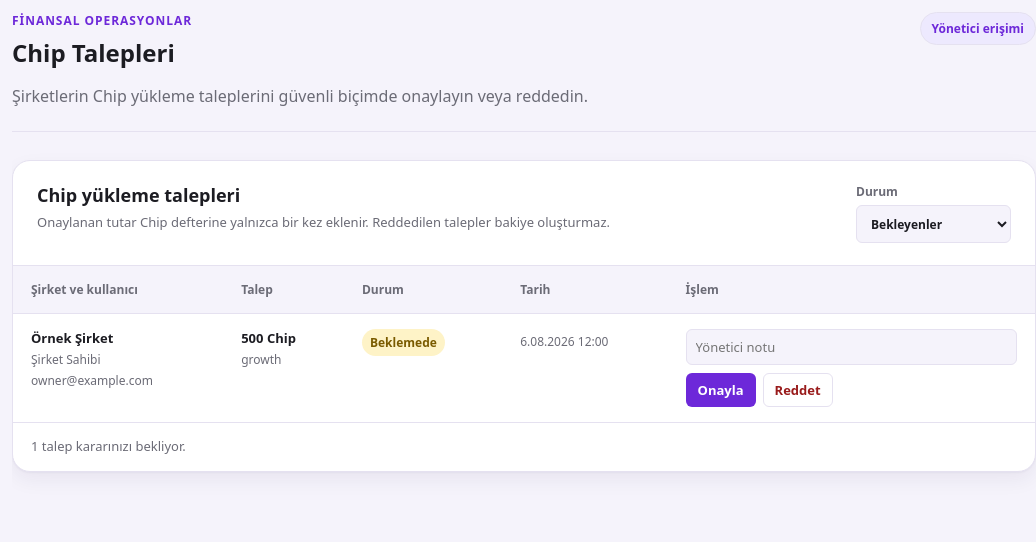
AdminDashboard › talebi onaylar ve yonetici notunu API'ye gonderir
The image size is (1036, 542).
Expected: the text "Örnek Şirket" is shown, x1=31 y1=329 x2=113 y2=347
Type "Ödeme doğrulandı" into the field named "Örnek Şirket için yönetici notu" at (851, 347), box x1=686 y1=329 x2=1017 y2=365
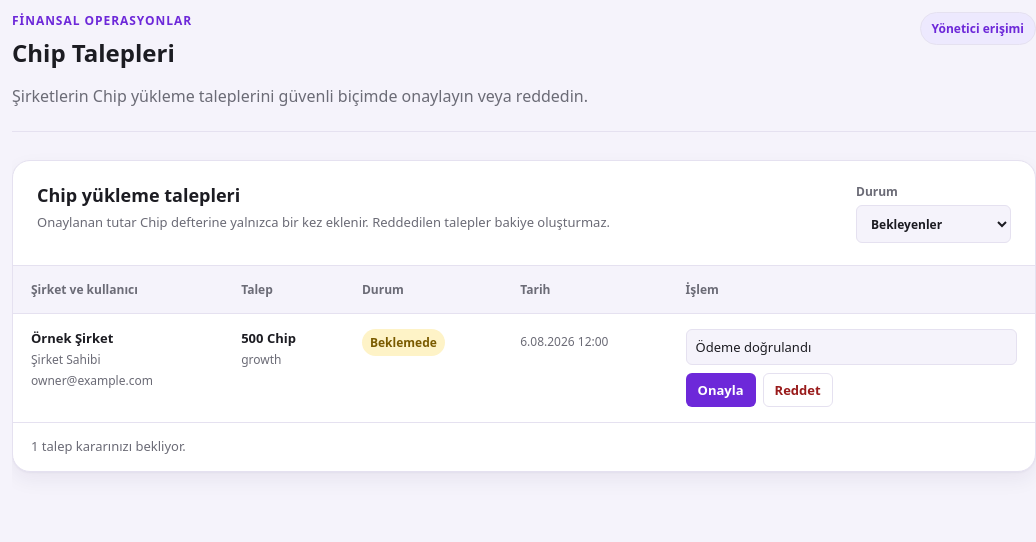
Click the button "Onayla" at (721, 390), box x1=686 y1=373 x2=756 y2=407
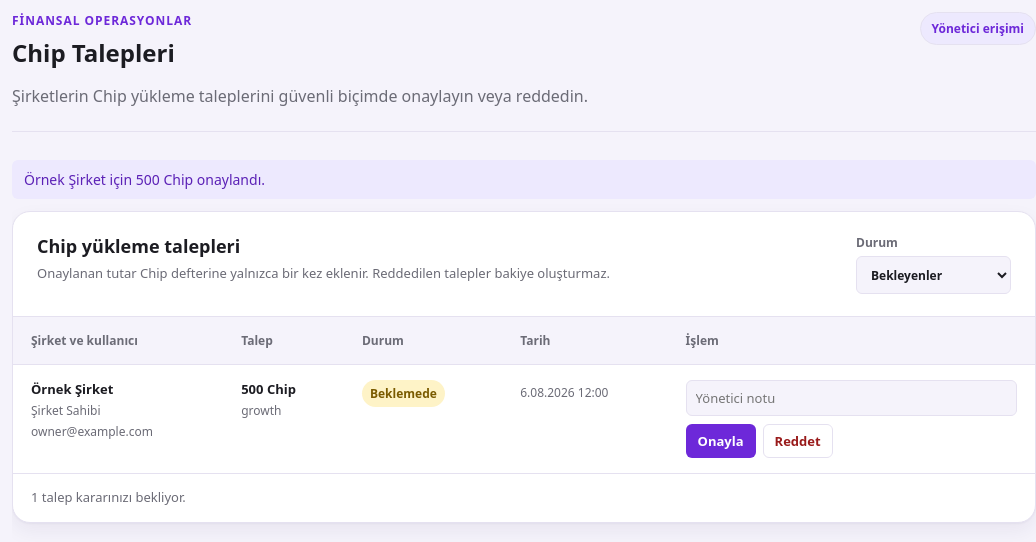
Expected: the message shows "500 Chip onaylandı", x1=24 y1=170 x2=265 y2=189
